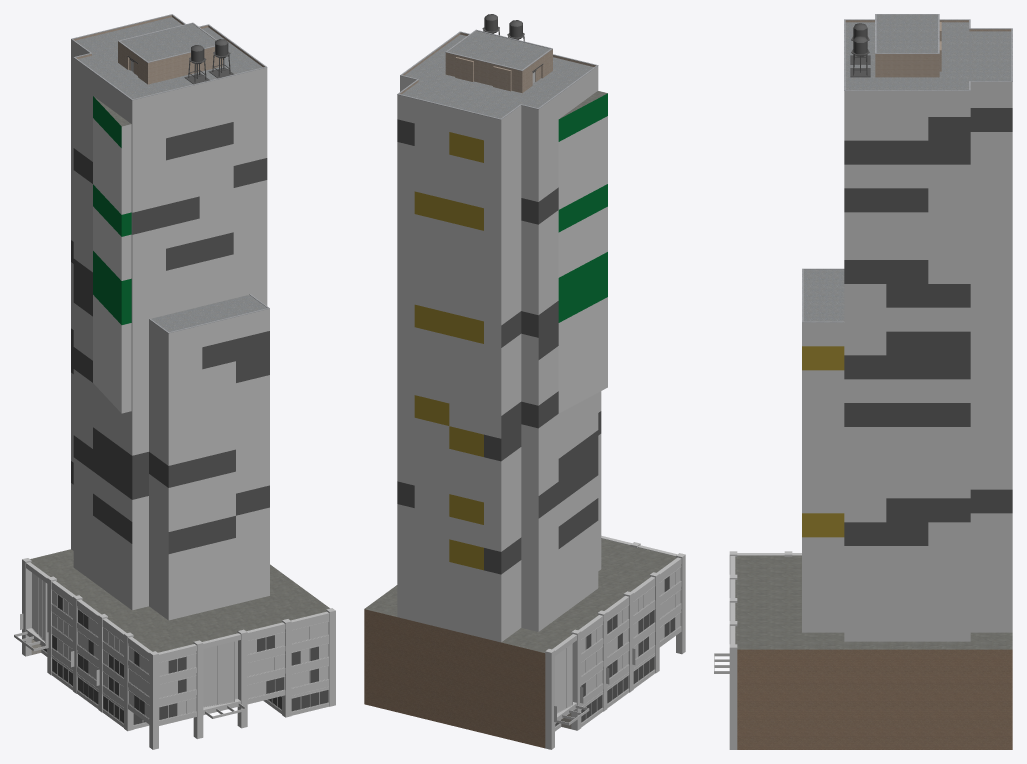
File: mcp_building_26_LOD_1.FBX
3 renders of one model, left to right at view 1: azimuth 30°, elevation 25°; view 2: azimuth 150°, elevation 25°; view 3: azimuth 270°, elevation 25°, orthographic. The views are drawn at different scales.
Parts seen in each view (by area): view 1: mcp_building_26_walls, mcp_building_26, mcp_building_26_metal, mcp_building_26_props_01, mcp_building_26_marble; view 2: mcp_building_26_walls, mcp_building_26, mcp_building_26_metal, mcp_building_26_props_01; view 3: mcp_building_26_walls, mcp_building_26, mcp_building_26_metal, mcp_building_26_props_01.
Boxes of the visible parts, x1,y1,x2,y2 form: mcp_building_26_walls: (30, 15, 329, 654); mcp_building_26: (14, 558, 335, 749); mcp_building_26_metal: (71, 14, 269, 333); mcp_building_26_props_01: (184, 39, 234, 84); mcp_building_26_marble: (41, 649, 329, 729); mcp_building_26_walls: (364, 31, 676, 748); mcp_building_26: (545, 535, 685, 749); mcp_building_26_metal: (397, 29, 598, 119); mcp_building_26_props_01: (482, 14, 524, 41); mcp_building_26_walls: (735, 15, 1012, 749); mcp_building_26: (714, 551, 801, 749); mcp_building_26_metal: (802, 14, 1012, 322); mcp_building_26_props_01: (850, 23, 870, 77).
Size of the model in its own units: 5395 by 16734 by 6619.
